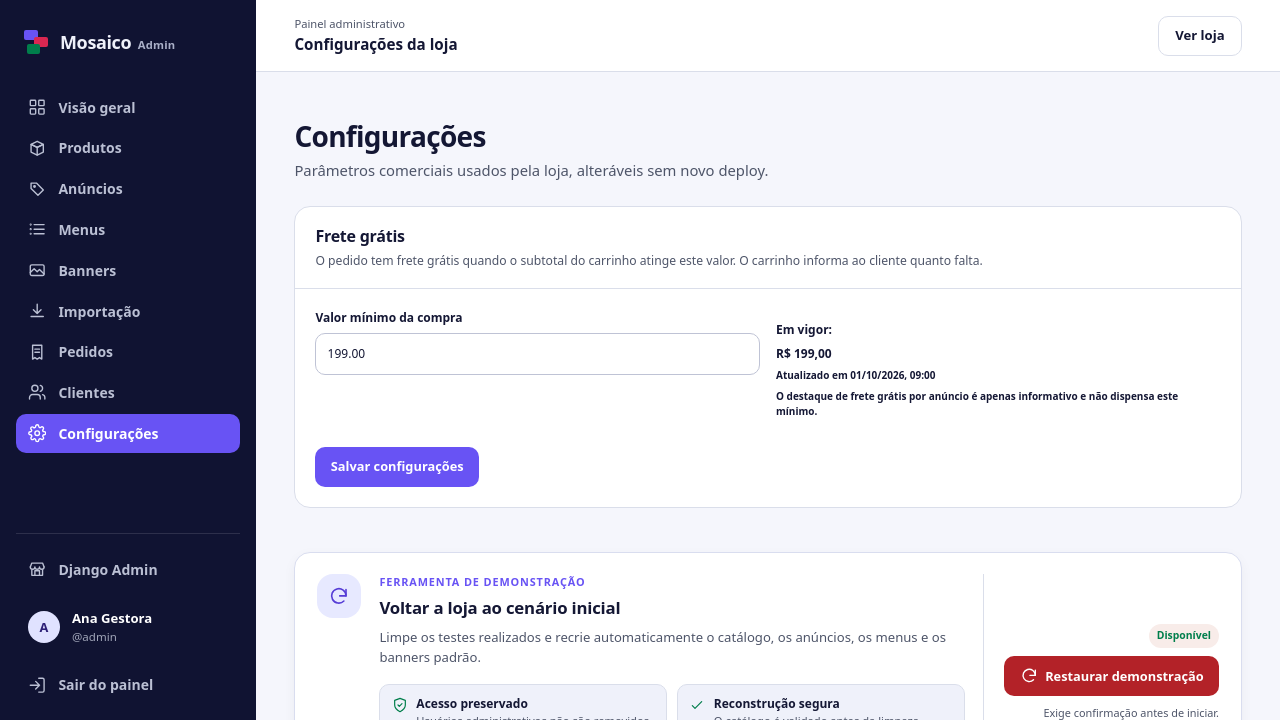
Test: Mosaico Admin › requires the confirmation phrase before restoring the demo store
Click the button "Restaurar demonstração": (1112, 676) [1004,656,1219,696]
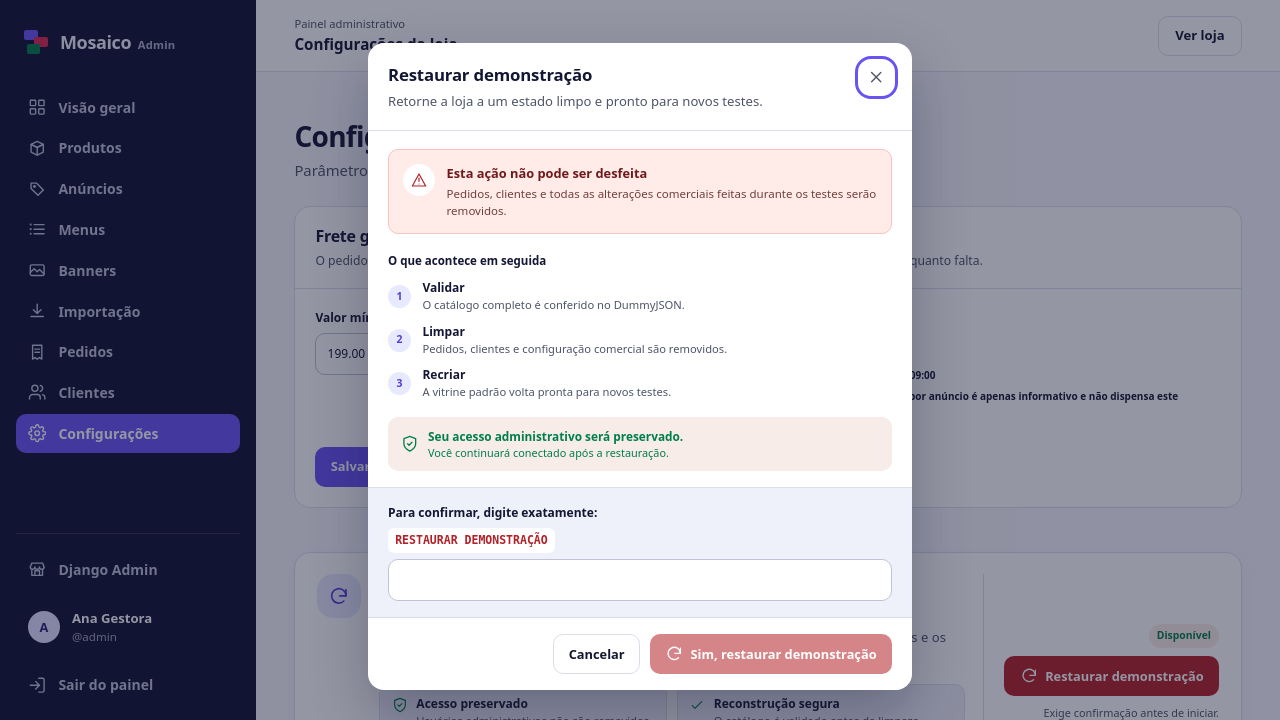
Now the text "Esta ação não pode ser desfeita" is shown, box [447,164,647,182]
Now the text "Seu acesso administrativo será preservado." is shown, box [428,428,683,445]
Now the button "Sim, restaurar demonstração" is disabled, box [650,634,892,674]
In the field: (640, 580) [388,559,892,601], type "RESTAURAR DEMONSTRAÇÃO"
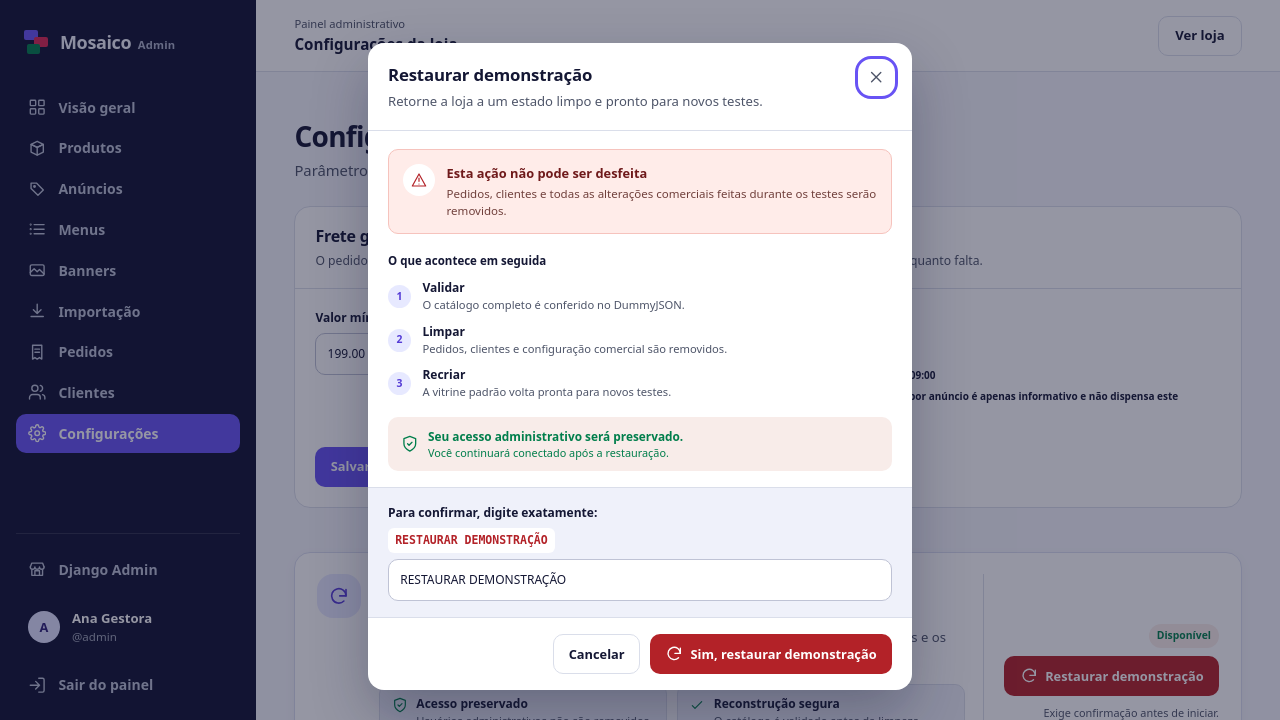
Click the button "Sim, restaurar demonstração": (771, 654) [650,634,892,674]
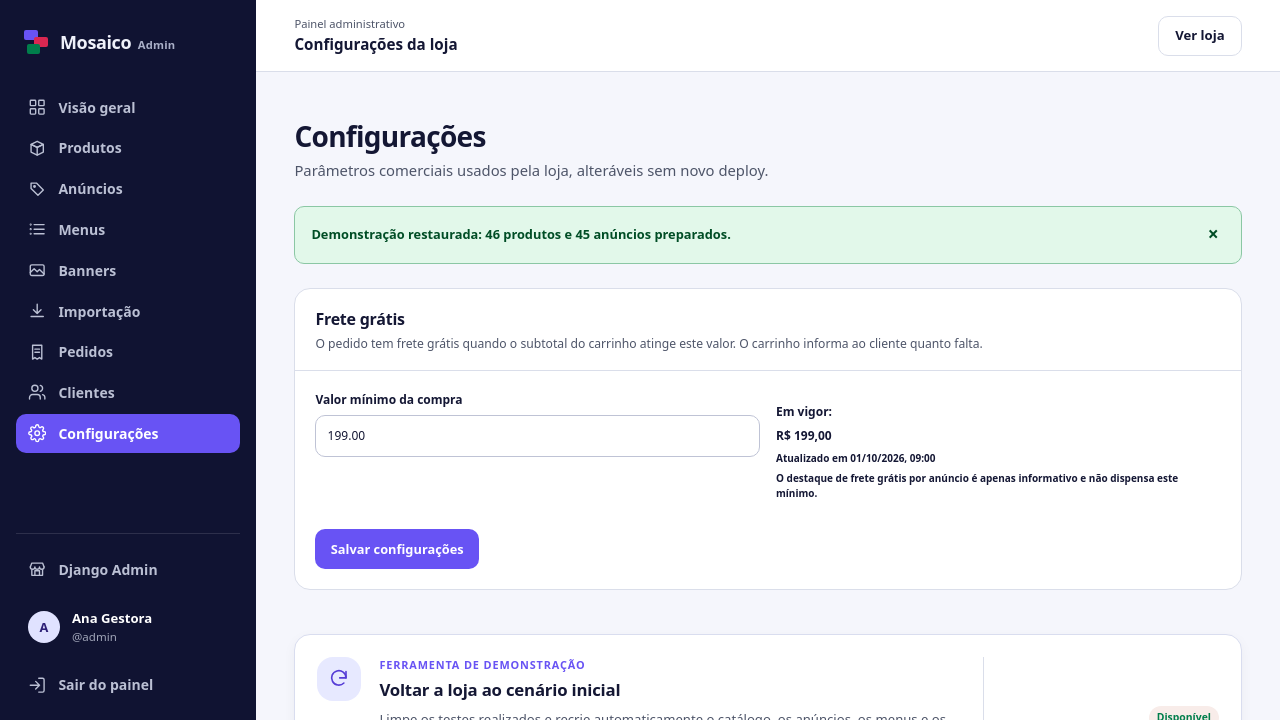
Now the text "46 produtos e 45 anúncios preparados" is shown, box [311,225,731,243]
